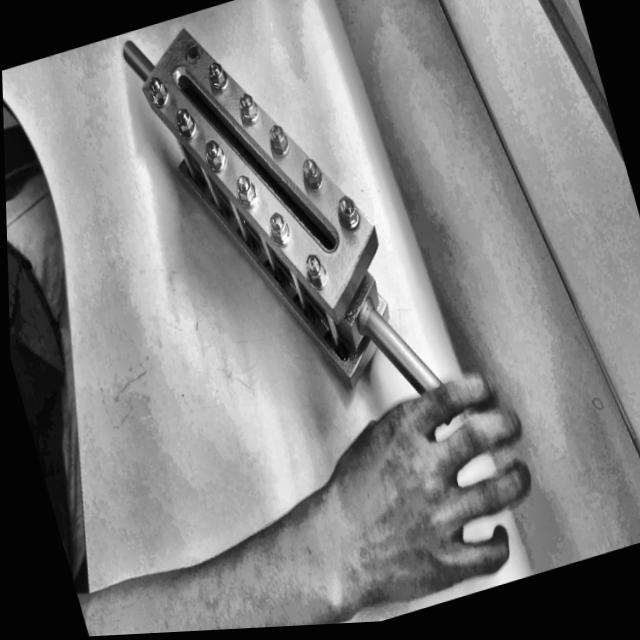ShuiWeiQi_11: (113, 0, 425, 442)
